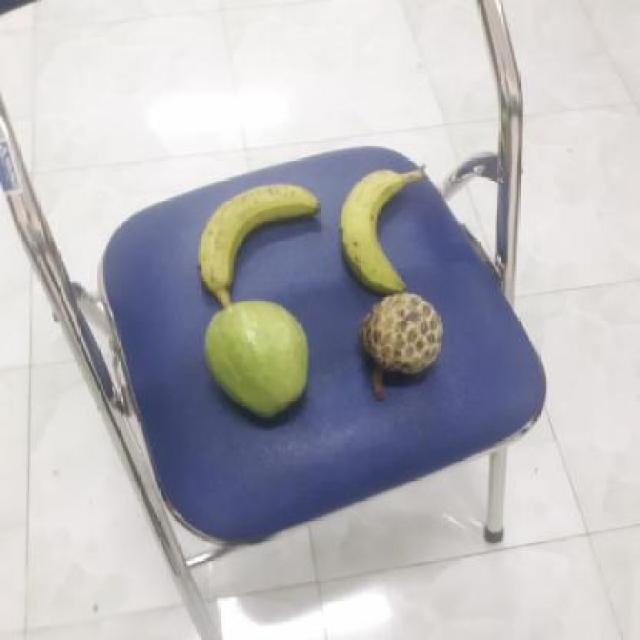banana: (193, 182, 319, 296), (333, 170, 421, 292)
sugar apple: (357, 290, 445, 378)
